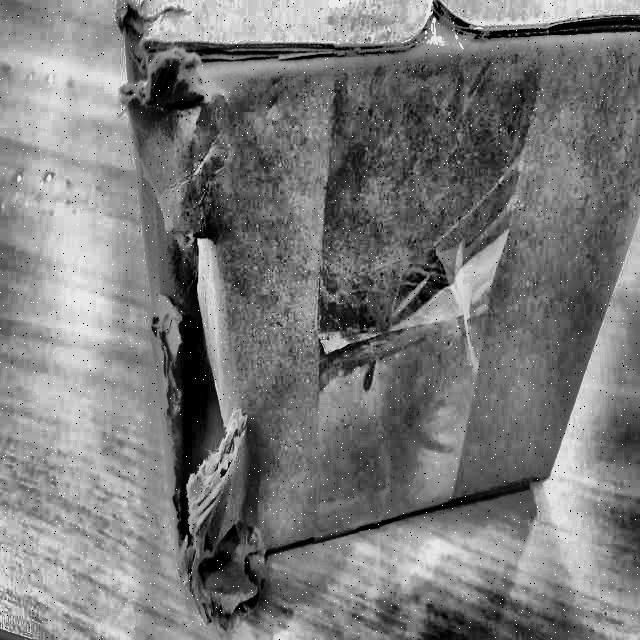box: (49, 0, 640, 578)
hole: (160, 294, 262, 572)
